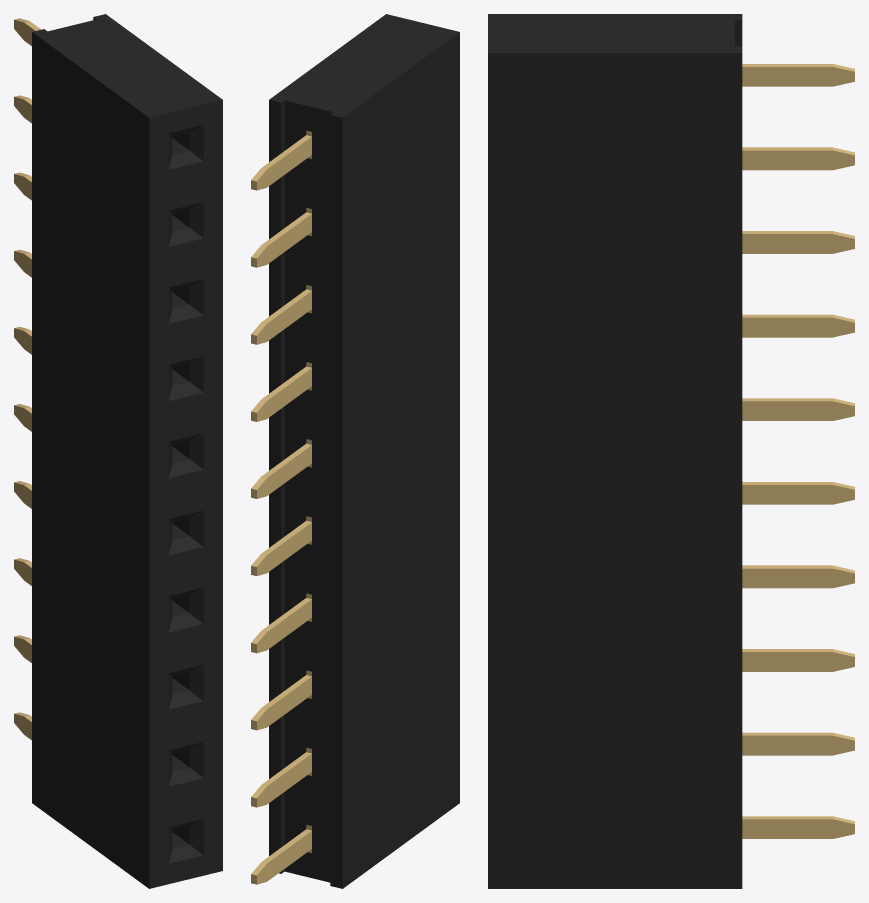
The model's file is PinSocket_1x10_P2.54mm_Vertical.glb.
3 views of the same model, side by side, from view 1: azimuth 30°, elevation 25°; view 2: azimuth 150°, elevation 25°; view 3: azimuth 270°, elevation 25° (orthographic). The views are drawn at different scales.
Parts seen in each view (by area): view 1: PinSocket_1x10_P254mm_Vertical_862d43, PinSocket_1x10_P254mm_Vertical_1e7445; view 2: PinSocket_1x10_P254mm_Vertical_862d43, PinSocket_1x10_P254mm_Vertical_1e7445; view 3: PinSocket_1x10_P254mm_Vertical_862d43, PinSocket_1x10_P254mm_Vertical_1e7445.
Boxes of the visible parts, <box> form: PinSocket_1x10_P254mm_Vertical_862d43: <box>32,14,222,888</box>; PinSocket_1x10_P254mm_Vertical_1e7445: <box>14,18,40,740</box>; PinSocket_1x10_P254mm_Vertical_862d43: <box>269,14,459,888</box>; PinSocket_1x10_P254mm_Vertical_1e7445: <box>251,130,311,884</box>; PinSocket_1x10_P254mm_Vertical_862d43: <box>488,14,742,888</box>; PinSocket_1x10_P254mm_Vertical_1e7445: <box>742,64,854,838</box>.
Size of the model in its own units: 0.00254 by 0.0254 by 0.0101.
